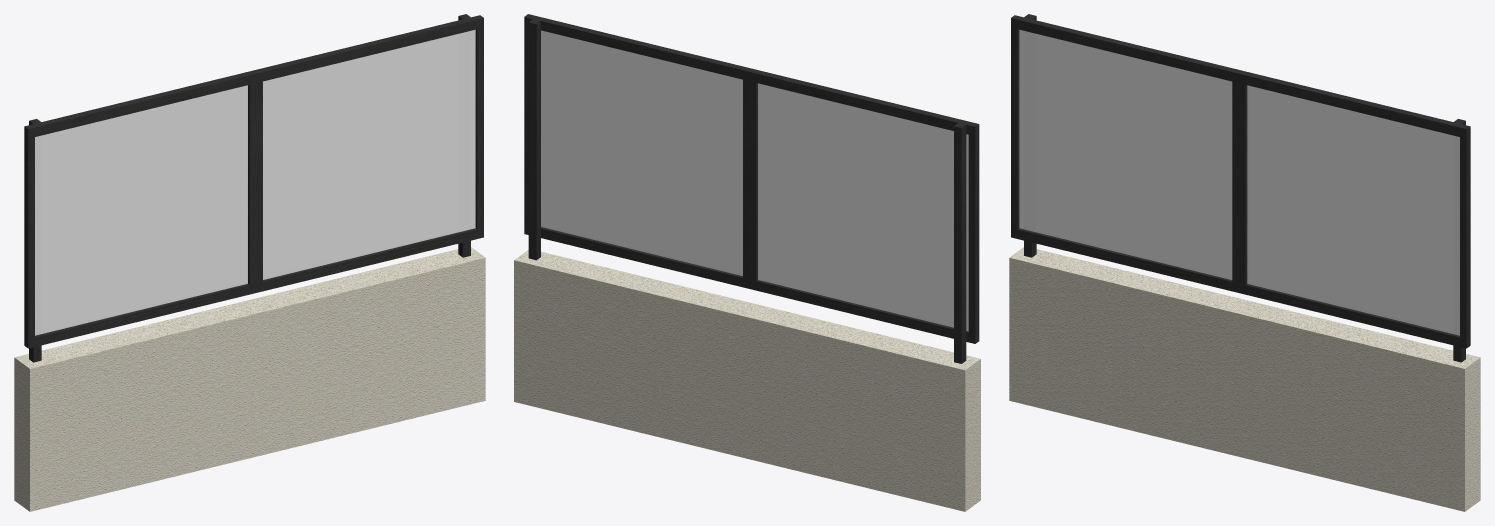
Rendered from EAFpolycadesign_w1998-h920_block_charcoalgray.fbx.
3 views of the same model, side by side, from view 1: azimuth 30°, elevation 25°; view 2: azimuth 150°, elevation 25°; view 3: azimuth 330°, elevation 25° (orthographic).
Parts seen in each view (by area): view 1: EAFpolycadesign_w1998-h920_block_charcoalgray; view 2: EAFpolycadesign_w1998-h920_block_charcoalgray; view 3: EAFpolycadesign_w1998-h920_block_charcoalgray.
Part boxes in pixels (x1,y1,x2,y2): EAFpolycadesign_w1998-h920_block_charcoalgray: (14, 14, 485, 511); EAFpolycadesign_w1998-h920_block_charcoalgray: (514, 14, 980, 511); EAFpolycadesign_w1998-h920_block_charcoalgray: (1009, 14, 1480, 511).
Bounding box in the file's own units: 200 × 160 × 12.
4 materials, 3 textured.
